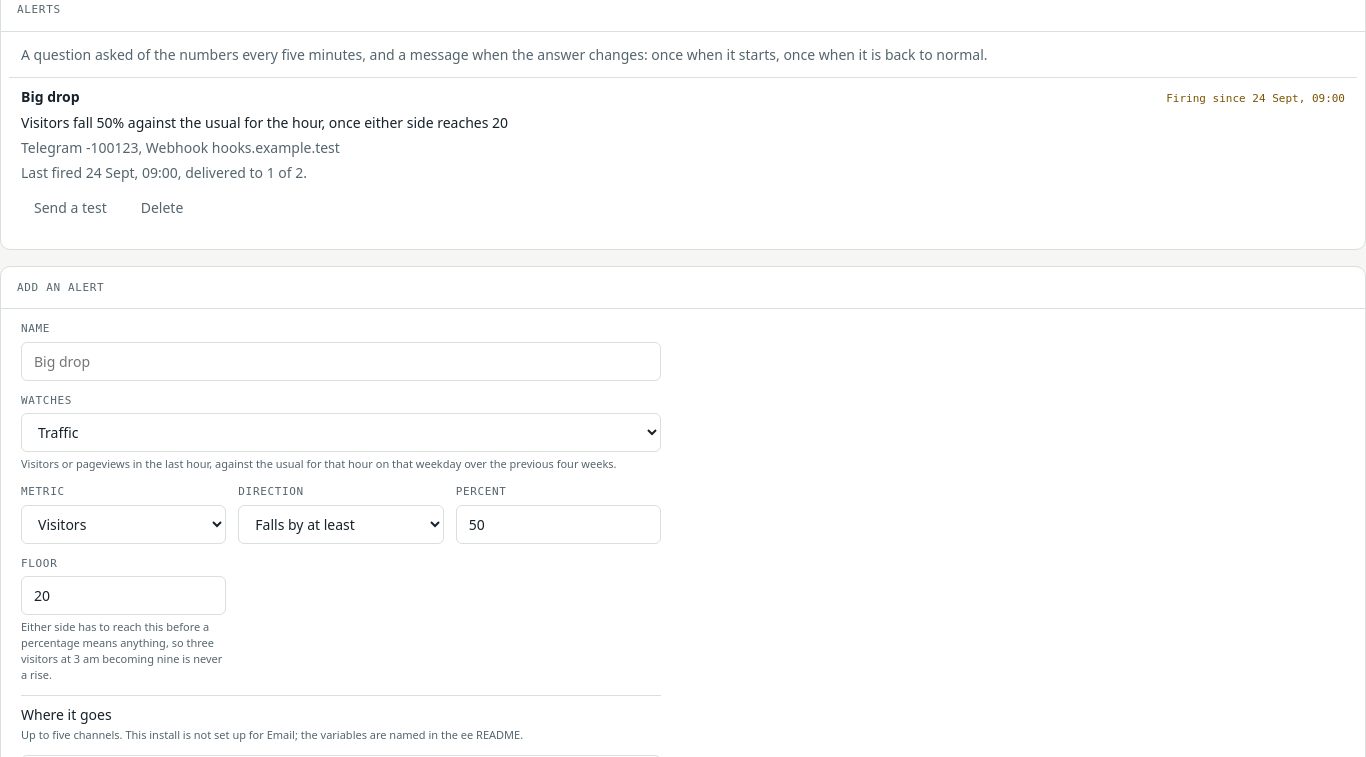
Test case: Alerts, adding one › says in words when the question is already asked, and when a channel cannot be sent on
expect the text "Big drop" is shown: met, box top-left (21, 86), bottom-right (80, 107)
In the field labelled "Name": [341, 361] box top-left (21, 342), bottom-right (661, 381), type "Again"
(page scrolled)
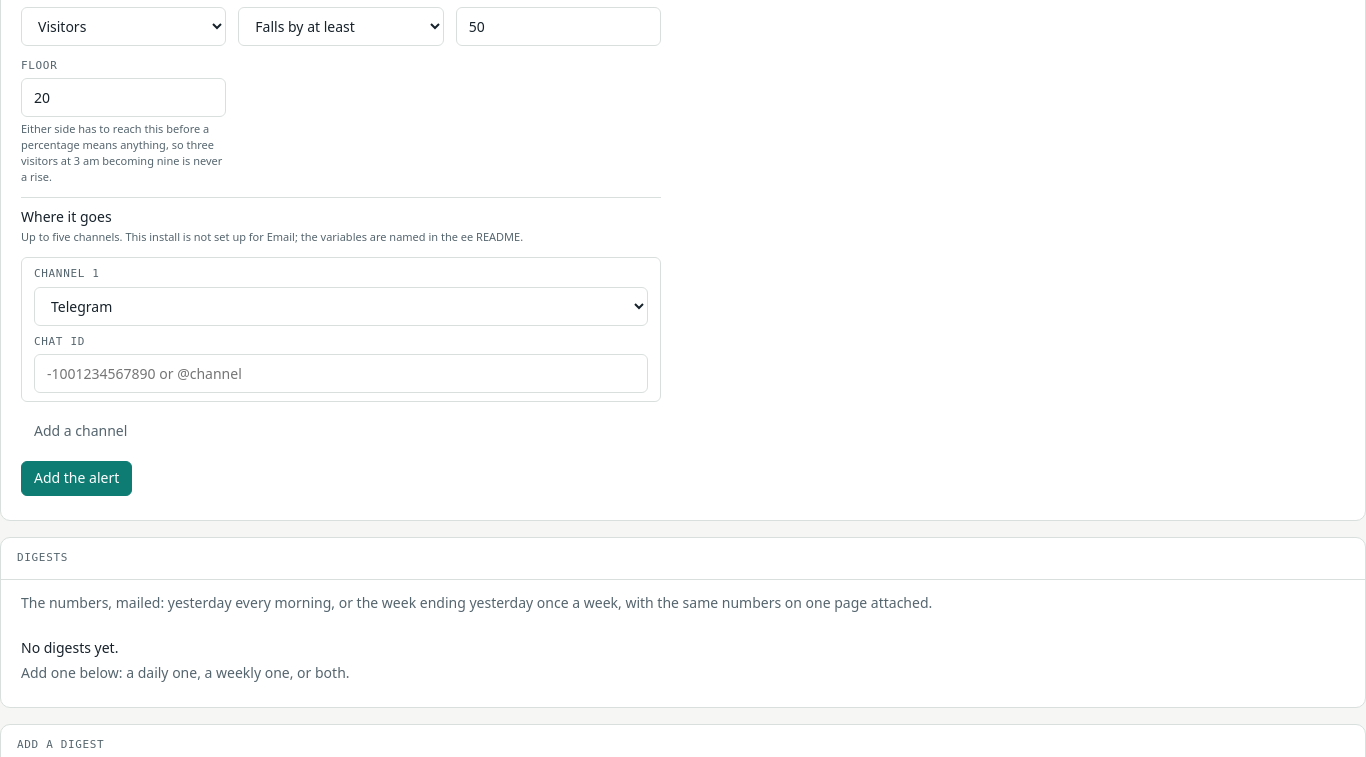
In the field labelled "Chat id": [341, 374] box top-left (34, 354), bottom-right (648, 394), type "-100123"
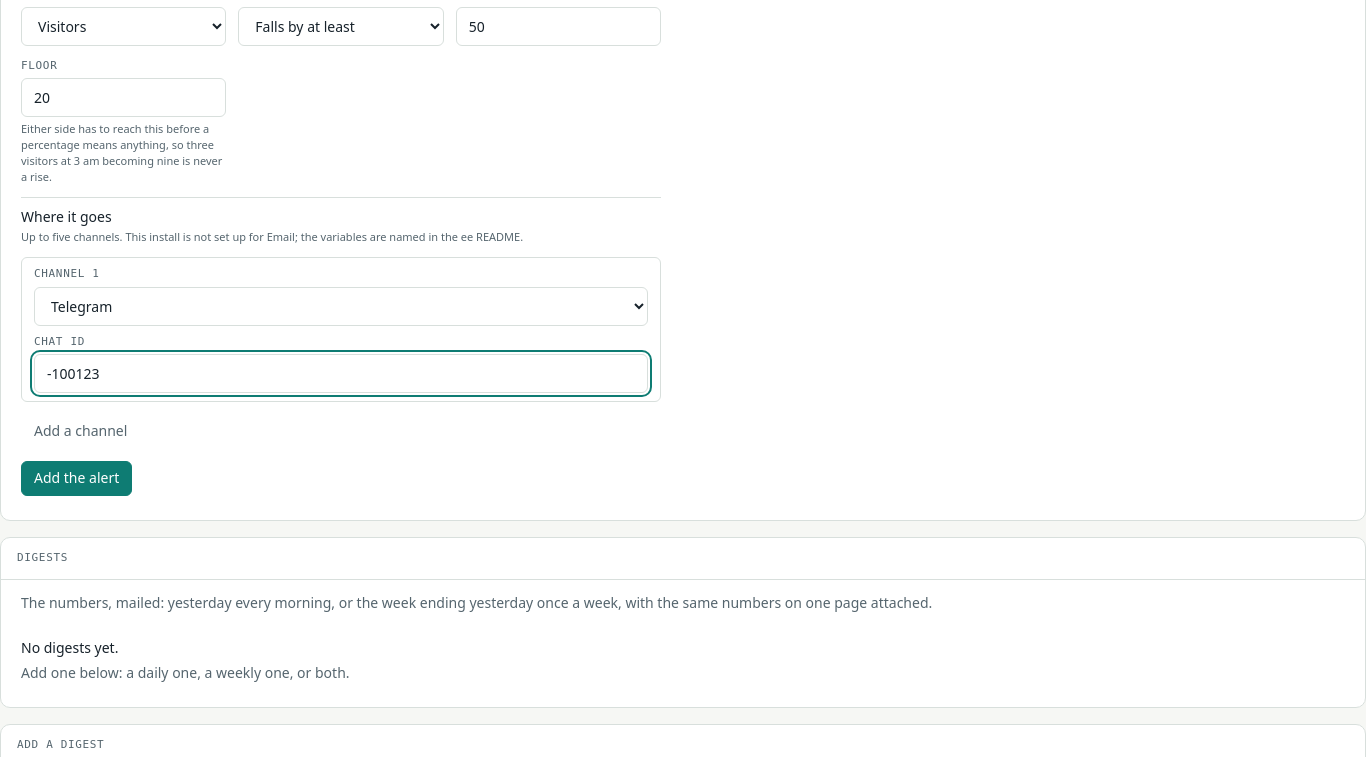
Click the button "Add the alert": [77, 479] box top-left (21, 461), bottom-right (132, 496)
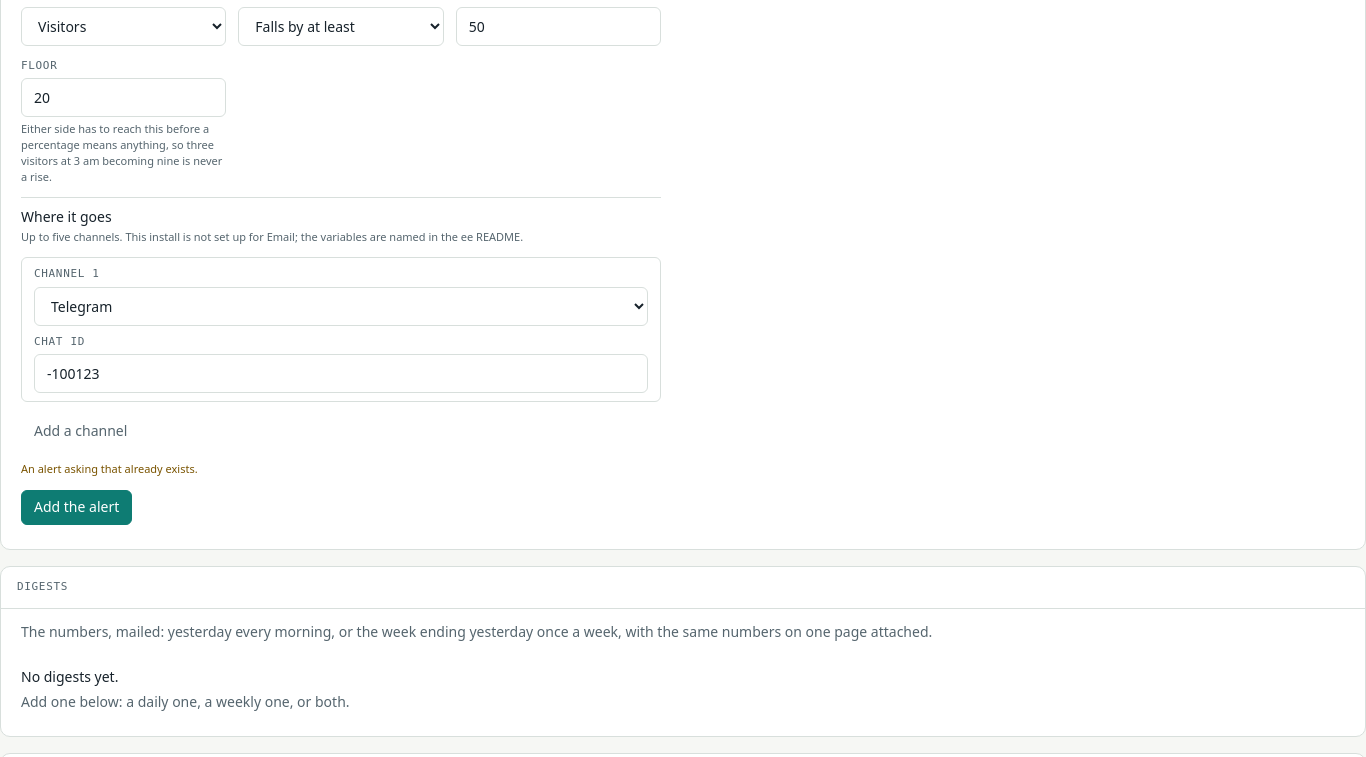
expect the text "An alert asking that already exists." is shown: met, box top-left (21, 461), bottom-right (198, 476)
